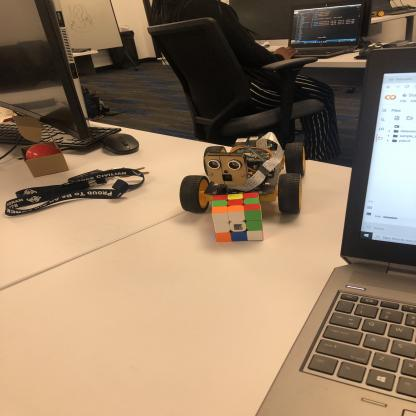UnsolvedCube: (211, 193, 264, 242)
